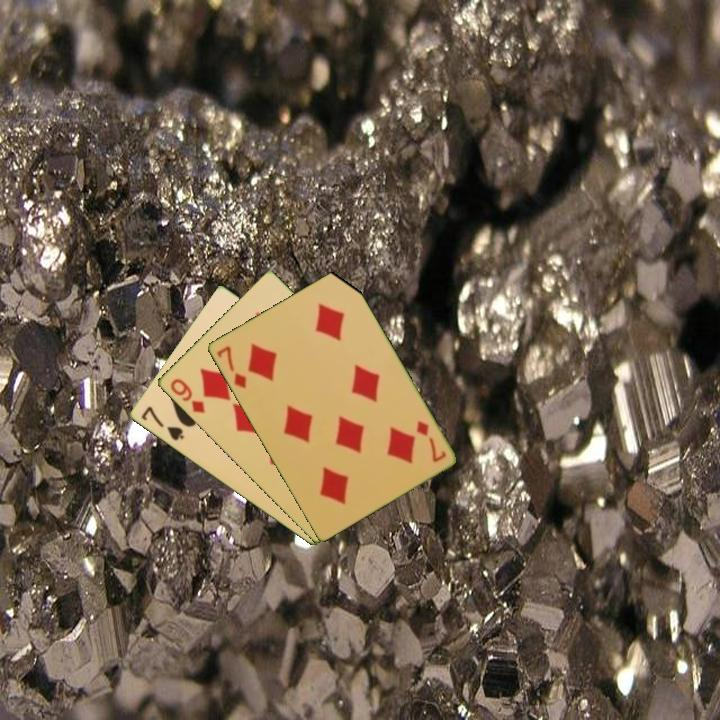7d: (412, 416, 449, 465), (213, 342, 249, 391)
7s: (137, 403, 187, 444)
9d: (166, 375, 207, 416)
